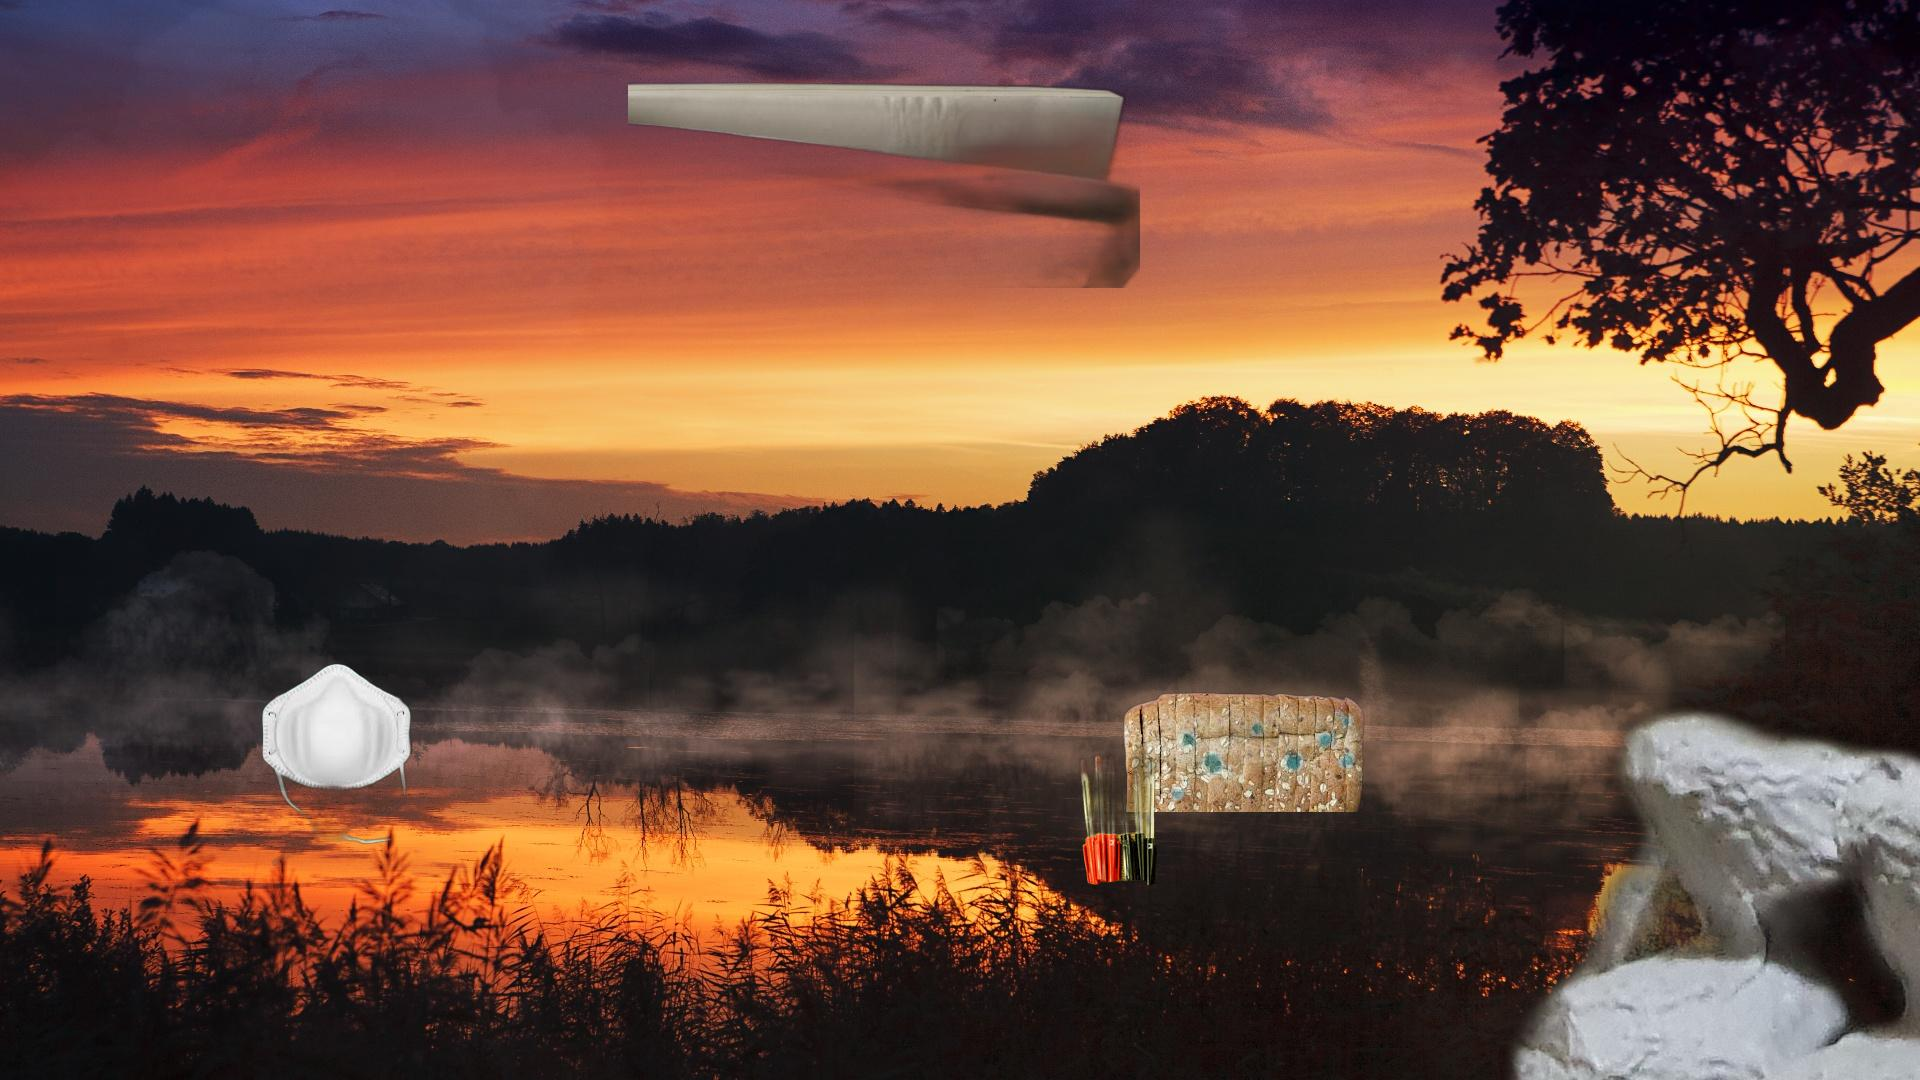biological: (1120, 690, 1366, 812), (1507, 1054, 1783, 1080)
paper: (628, 76, 1139, 287)
penholder: (1075, 742, 1192, 890)
trash: (231, 661, 425, 866)
trashbox-cardboard: (756, 682, 1920, 1080)
